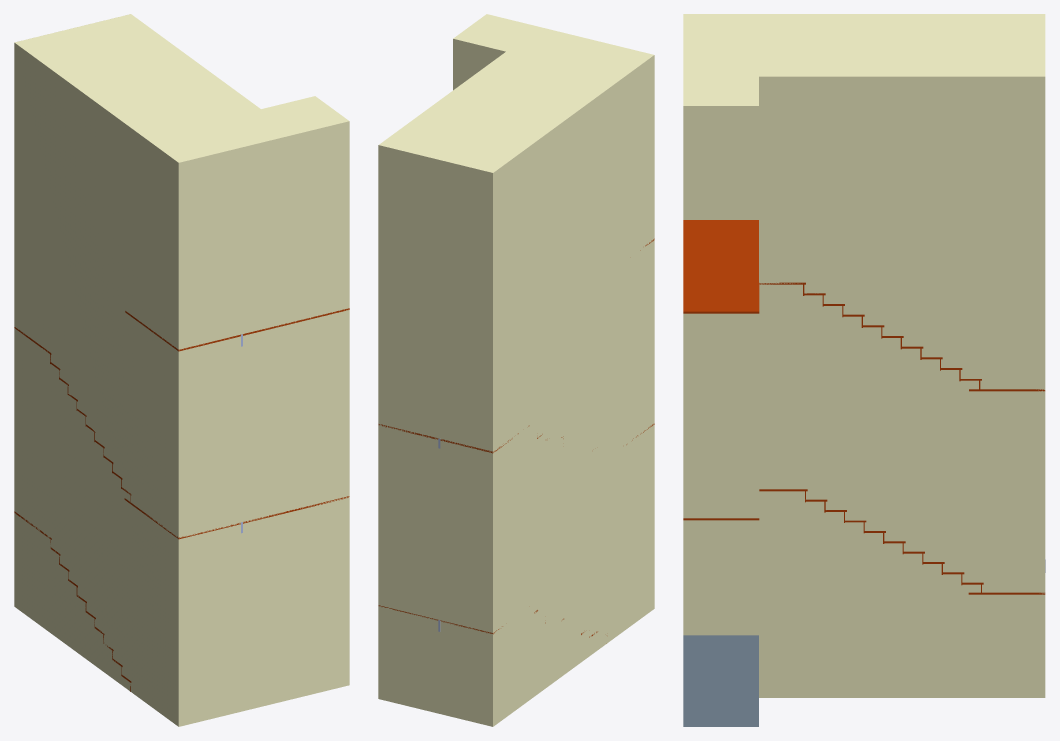
Rendered from AndysStairsCol.dae.
The picture shows the model from 3 angles, left to right: view 1: azimuth 30°, elevation 25°; view 2: azimuth 150°, elevation 25°; view 3: azimuth 270°, elevation 25°; orthographic projection. The views are drawn at different scales.
Visible parts, largest first — view 1: Empty_Mesh; view 2: Empty_Mesh; view 3: Empty_Mesh.
Boxes of the visible parts, box(x1,y1,x2,y2) form: Empty_Mesh: box(14, 14, 349, 726); Empty_Mesh: box(378, 14, 654, 726); Empty_Mesh: box(683, 14, 1045, 726).
Size of the model in its own units: 3.84 by 12.13 by 6.41.
